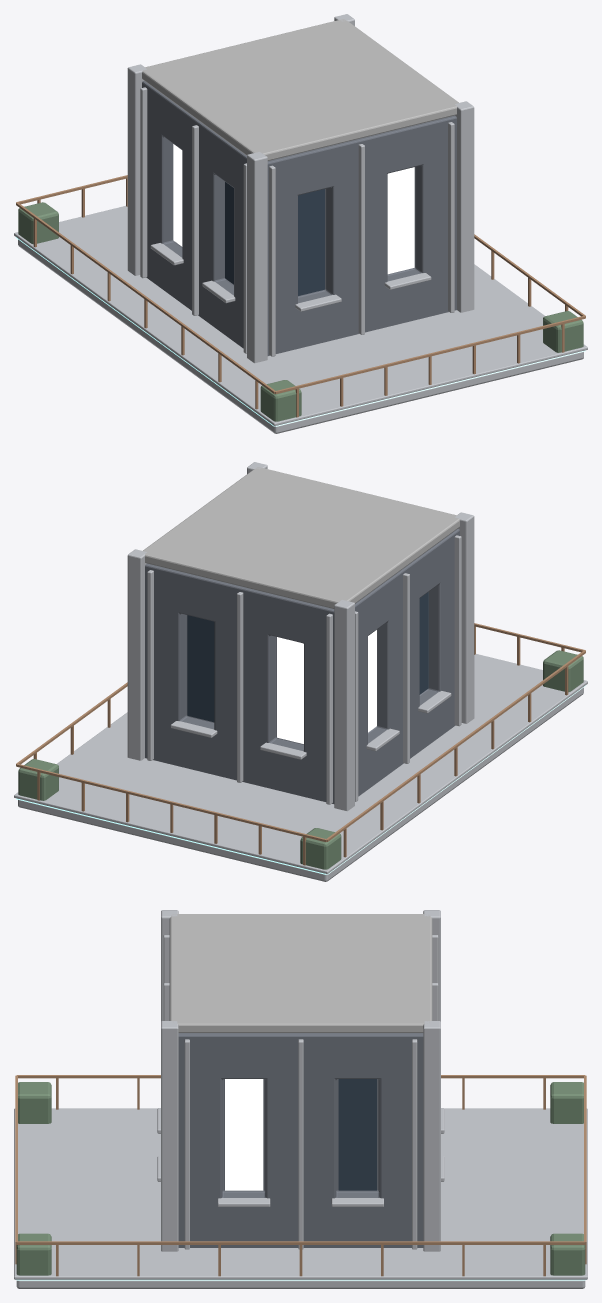
The model's file is transfer_4x6_3x3_office.glb.
3 renders of one model, top to bottom at view 1: azimuth 30°, elevation 25°; view 2: azimuth 150°, elevation 25°; view 3: azimuth 270°, elevation 25°, orthographic. The views are drawn at different scales.
Visible parts, largest first — view 1: ext_wall, int_slab_edge, int_ceiling, int_columns, ext_frames, ext_deck_rail, int_slab, ext_deck_plants, ext_panes_lit, ext_panes_dark, ext_deck_glow; view 2: ext_wall, int_slab_edge, int_ceiling, int_columns, ext_frames, ext_deck_rail, int_slab, ext_deck_plants, ext_panes_dark, ext_panes_lit, ext_deck_glow; view 3: int_slab_edge, ext_wall, int_ceiling, int_columns, ext_frames, ext_deck_plants, ext_deck_rail, int_slab, ext_panes_lit, ext_panes_dark, ext_deck_glow.
Boxes of the visible parts, box(x1,y1,x2,y2) form: ext_wall: box(142, 81, 456, 355); int_slab_edge: box(14, 206, 587, 425); int_ceiling: box(142, 19, 458, 160); int_columns: box(127, 14, 474, 363); ext_frames: box(140, 87, 454, 356); ext_deck_rail: box(16, 175, 585, 417); int_slab: box(18, 239, 583, 433); ext_deck_plants: box(18, 202, 583, 421); ext_panes_lit: box(173, 144, 414, 274); ext_panes_dark: box(225, 182, 324, 295); ext_deck_glow: box(15, 237, 585, 426); ext_wall: box(145, 529, 459, 803); int_slab_edge: box(14, 654, 587, 873); int_ceiling: box(143, 467, 459, 608); int_columns: box(127, 462, 474, 811); ext_frames: box(147, 535, 461, 804); ext_deck_rail: box(16, 623, 585, 865); int_slab: box(18, 687, 583, 881); ext_deck_plants: box(18, 650, 583, 869); ext_panes_dark: box(187, 592, 428, 722); ext_panes_lit: box(277, 630, 376, 743); ext_deck_glow: box(16, 685, 586, 874); int_slab_edge: box(14, 1108, 587, 1279); ext_wall: box(178, 1033, 423, 1247); int_ceiling: box(169, 914, 432, 1032); int_columns: box(161, 910, 440, 1251); ext_frames: box(157, 935, 444, 1249); ext_deck_plants: box(16, 1082, 585, 1275); ext_deck_rail: box(15, 1075, 586, 1276); int_slab: box(16, 1280, 585, 1288); ext_panes_lit: box(225, 1079, 263, 1190); ext_panes_dark: box(338, 1079, 376, 1190); ext_deck_glow: box(15, 1279, 586, 1280).
Bounding box in the file's own units: 4.56 × 3 × 6.56.
